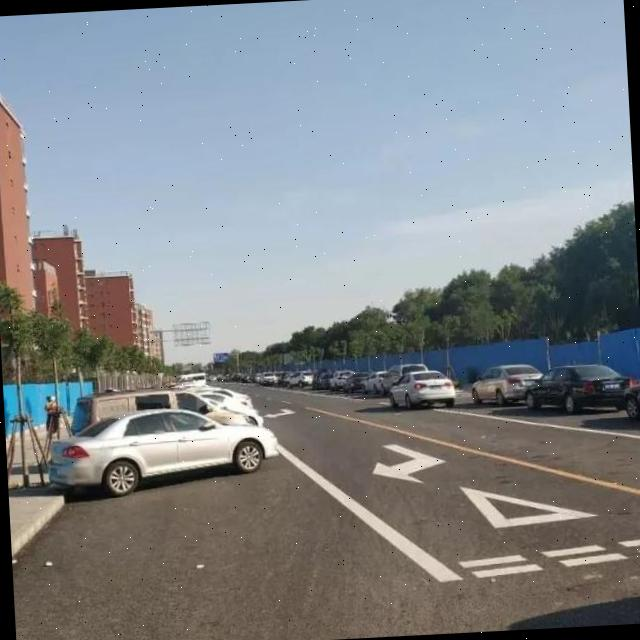curb: (12, 497, 62, 557)
